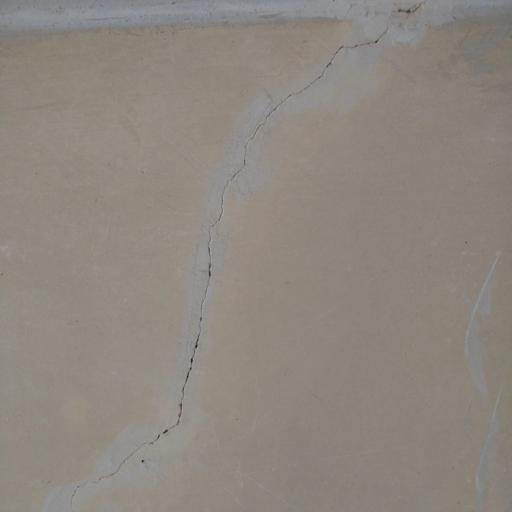minor_crack: (80, 0, 475, 512)
